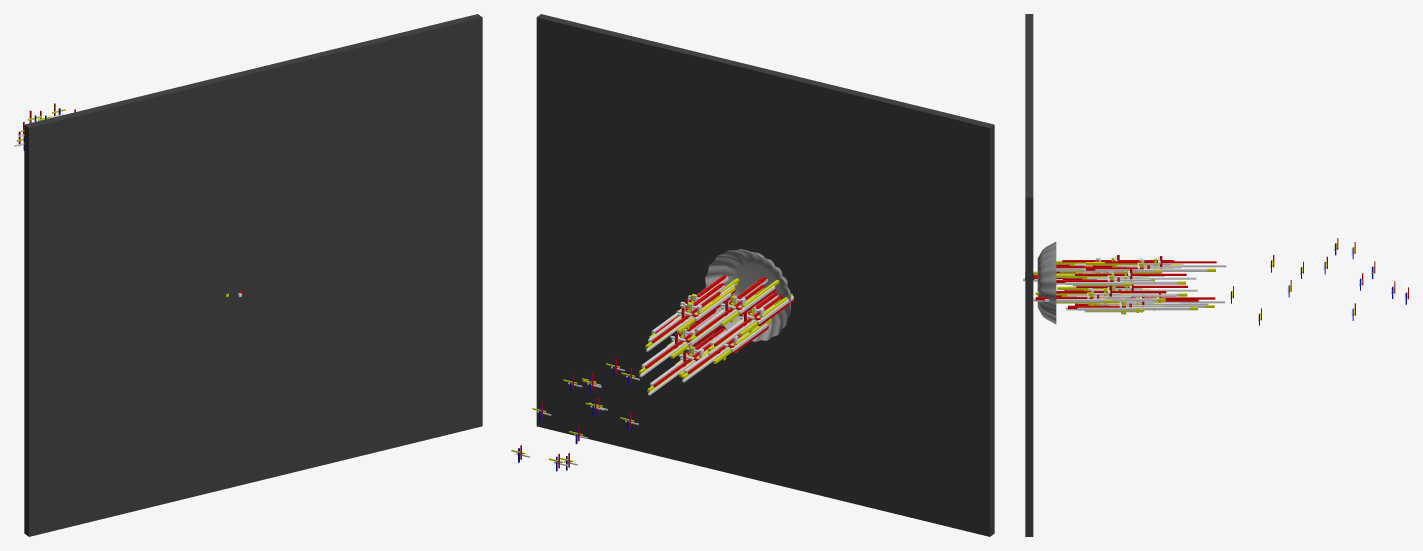
The model's file is guandao3.fbx.
The picture shows the model from 3 angles, left to right: view 1: azimuth 30°, elevation 25°; view 2: azimuth 150°, elevation 25°; view 3: azimuth 270°, elevation 25°; orthographic projection. The views are drawn at different scales.
Visible parts, largest first — view 1: pCube2; view 2: pCube2, pCylinder1; view 3: pCube2, pCylinder1.
Boxes of the visible parts, x1=… form: pCube2: x1=24, y1=14, x2=482, y2=536; pCube2: x1=536, y1=14, x2=994, y2=536; pCylinder1: x1=705, y1=249, x2=790, y2=341; pCube2: x1=1025, y1=14, x2=1033, y2=536; pCylinder1: x1=1037, y1=242, x2=1056, y2=324.
Size of the model in its own units: 5930 by 5109 by 5266.
